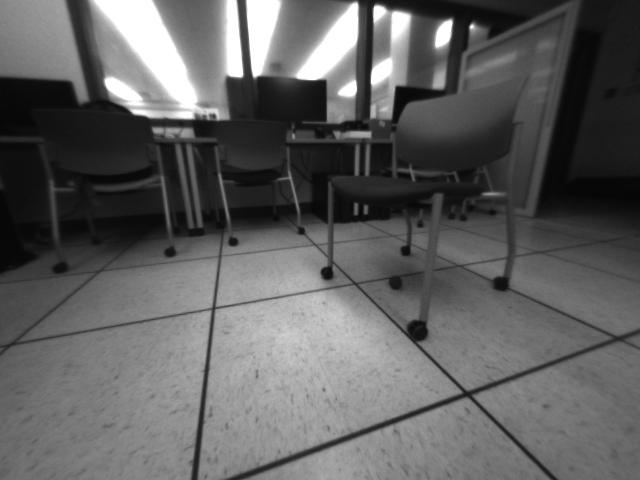dogtoy: (384, 269, 410, 293)
